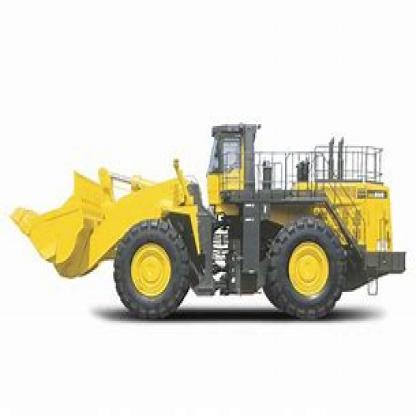bull_dozer/loader/grader: (9, 117, 406, 323)
